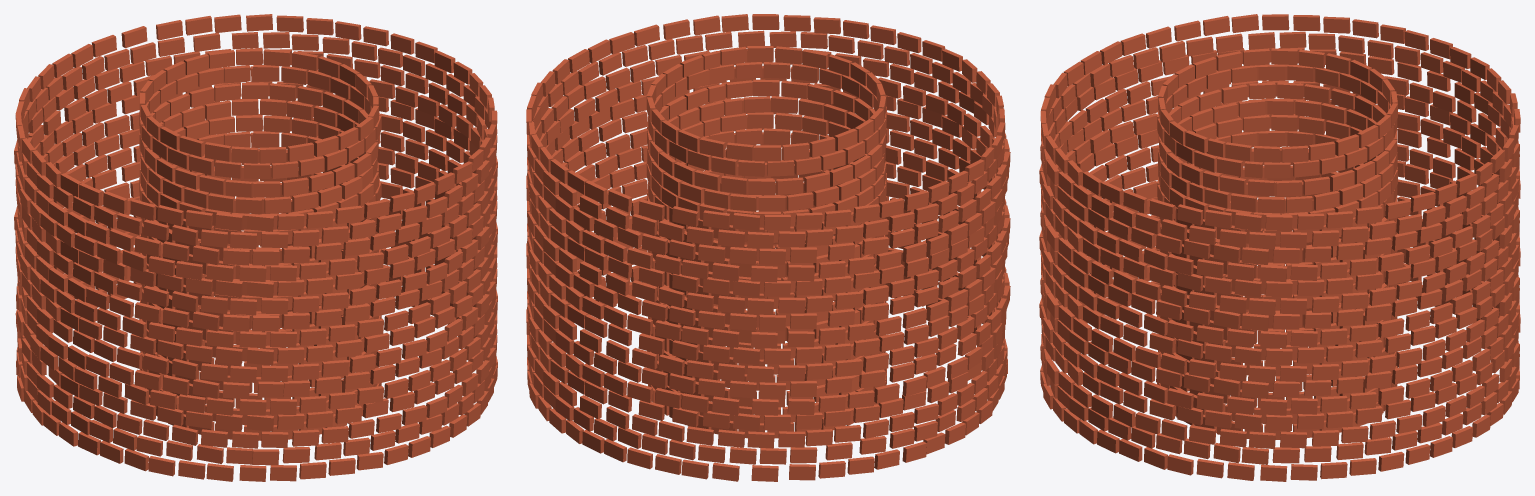
File: bricksUndergroundMusic.glb
3 views of the same model, side by side, from view 1: azimuth 30°, elevation 25°; view 2: azimuth 150°, elevation 25°; view 3: azimuth 270°, elevation 25° (orthographic).
Bounding box in the file's own units: 90.64 × 60.07 × 90.05.
